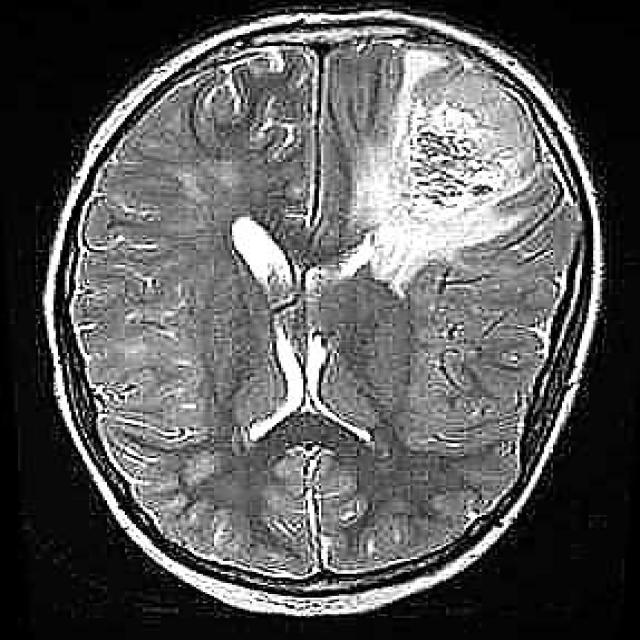Tumor-Cell: (362, 46, 508, 287)
